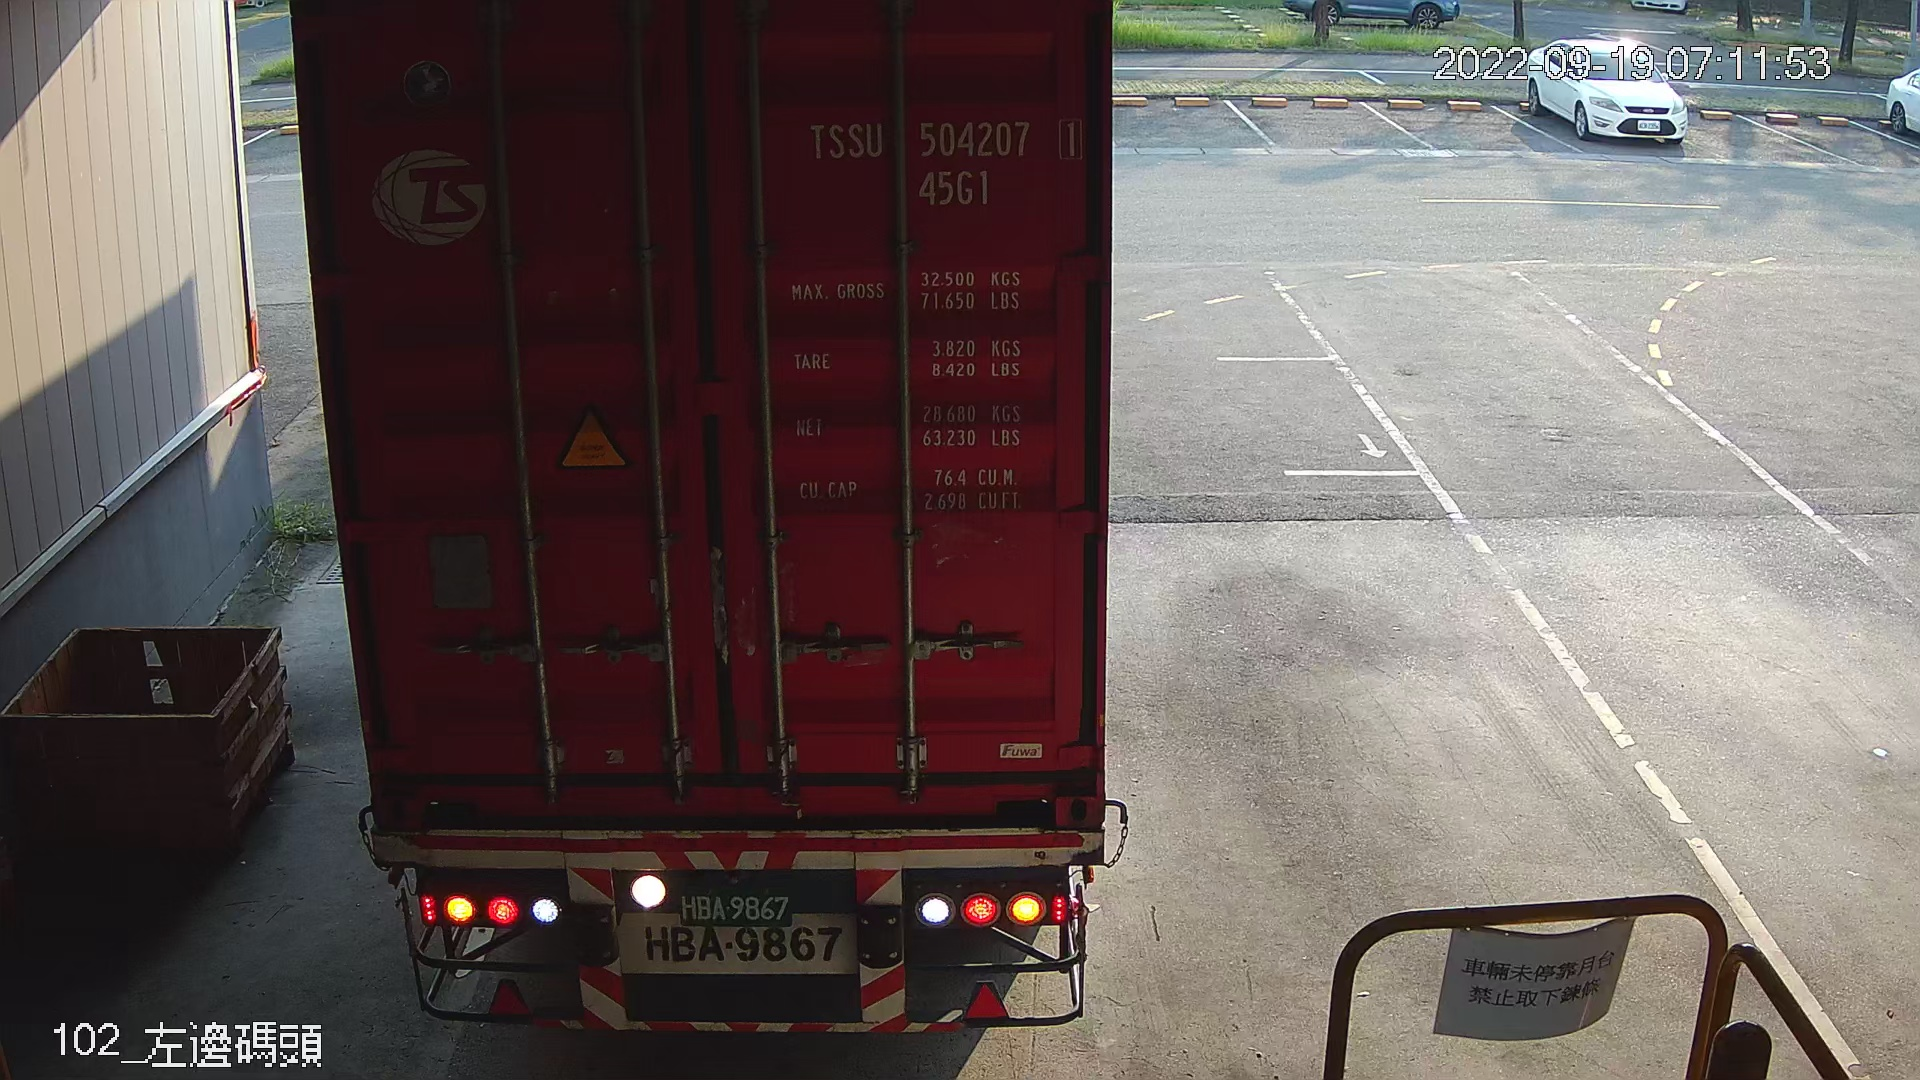container: (796, 104, 1095, 220)
